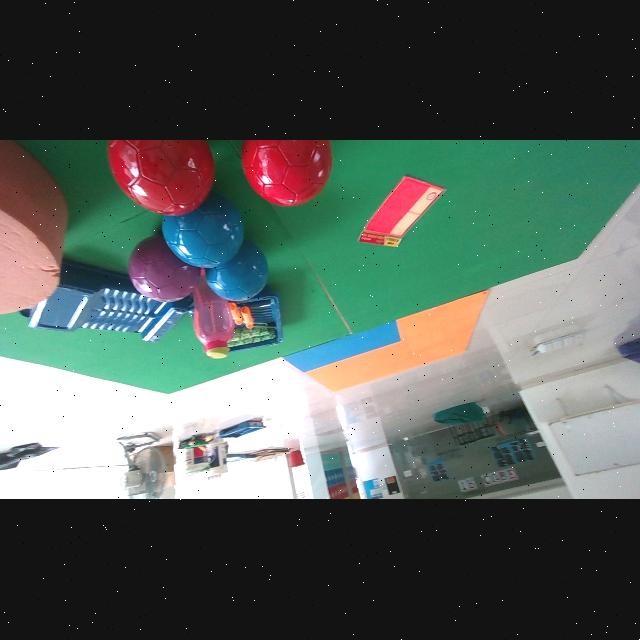B: (162, 193, 244, 269), (205, 241, 269, 302)
P: (128, 236, 200, 302)
R: (108, 140, 214, 216), (241, 141, 331, 206)
